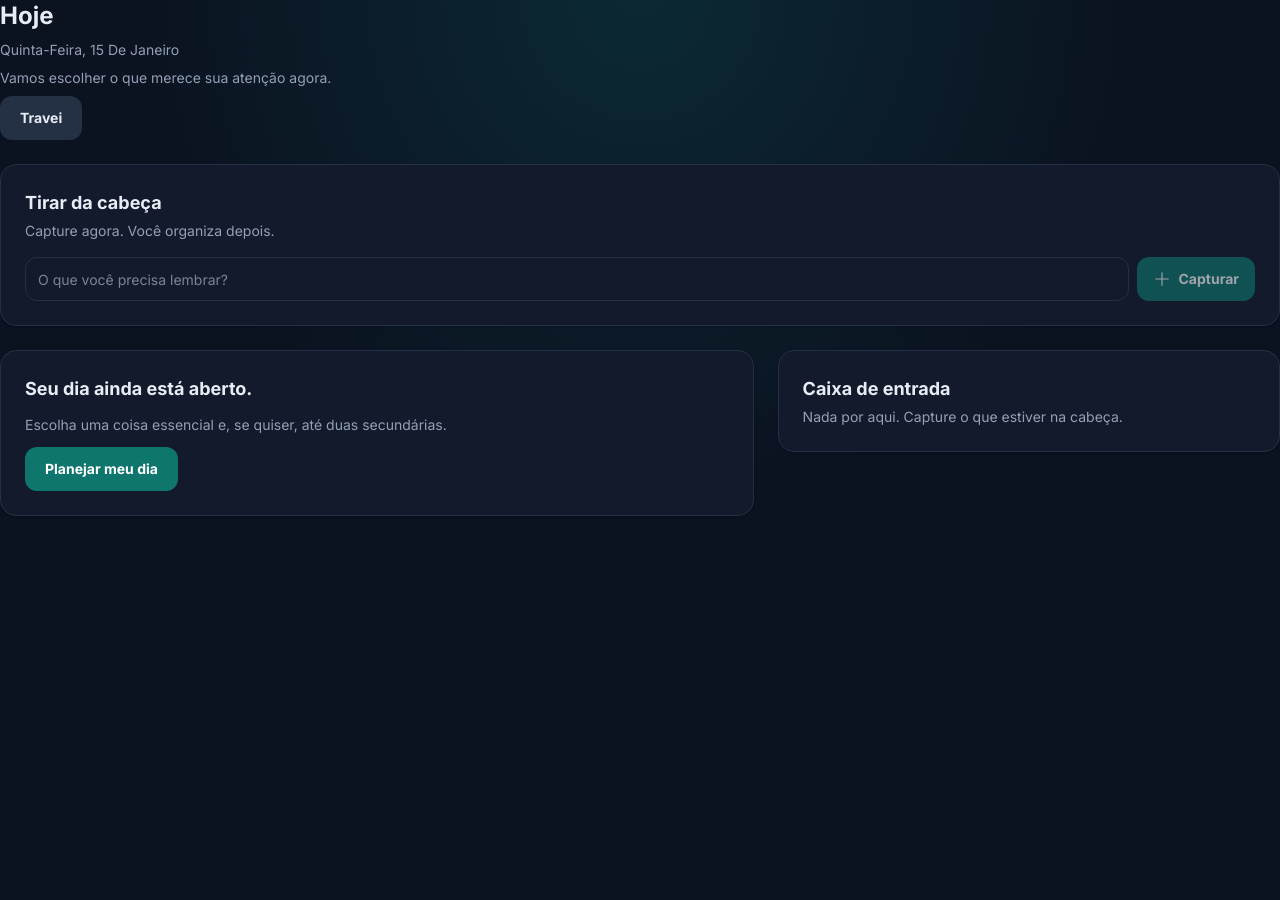
Test: Today screen › planning › keeps done and archived tasks out of planner candidates
The image size is (1280, 900).
expect the heading "Hoje" is shown: met, box x1=0 y1=1 x2=54 y2=30
Click the button "Planejar meu dia". click: (101, 469)
box: x1=25 y1=447 x2=178 y2=491
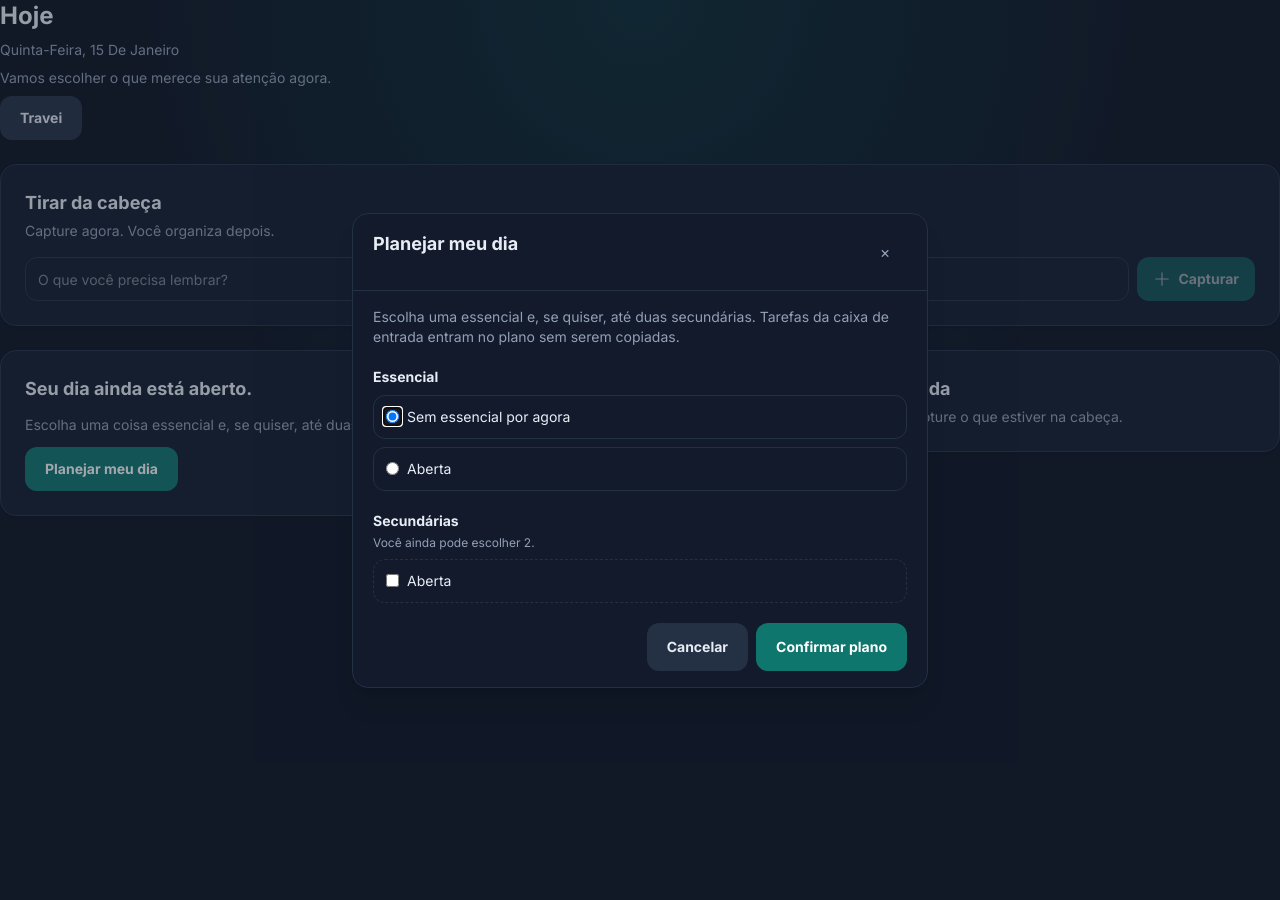
expect the radio button labelled "Aberta" is shown: met, box x1=386 y1=462 x2=399 y2=475
